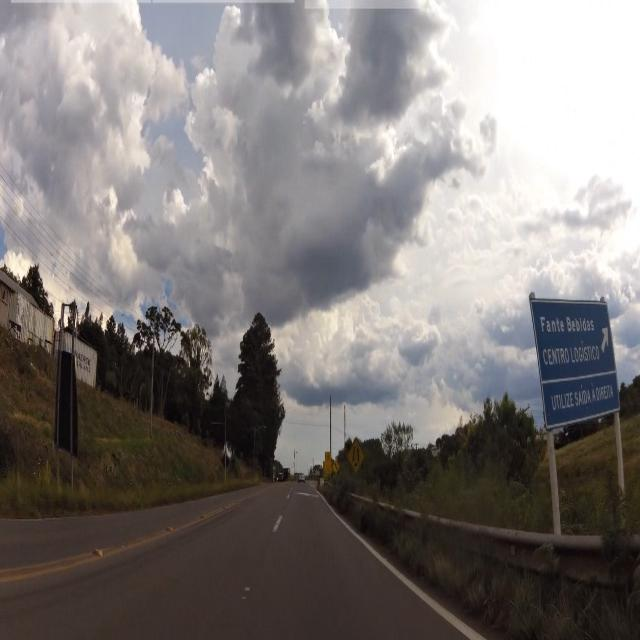LOC-6: (522, 284, 634, 424)
